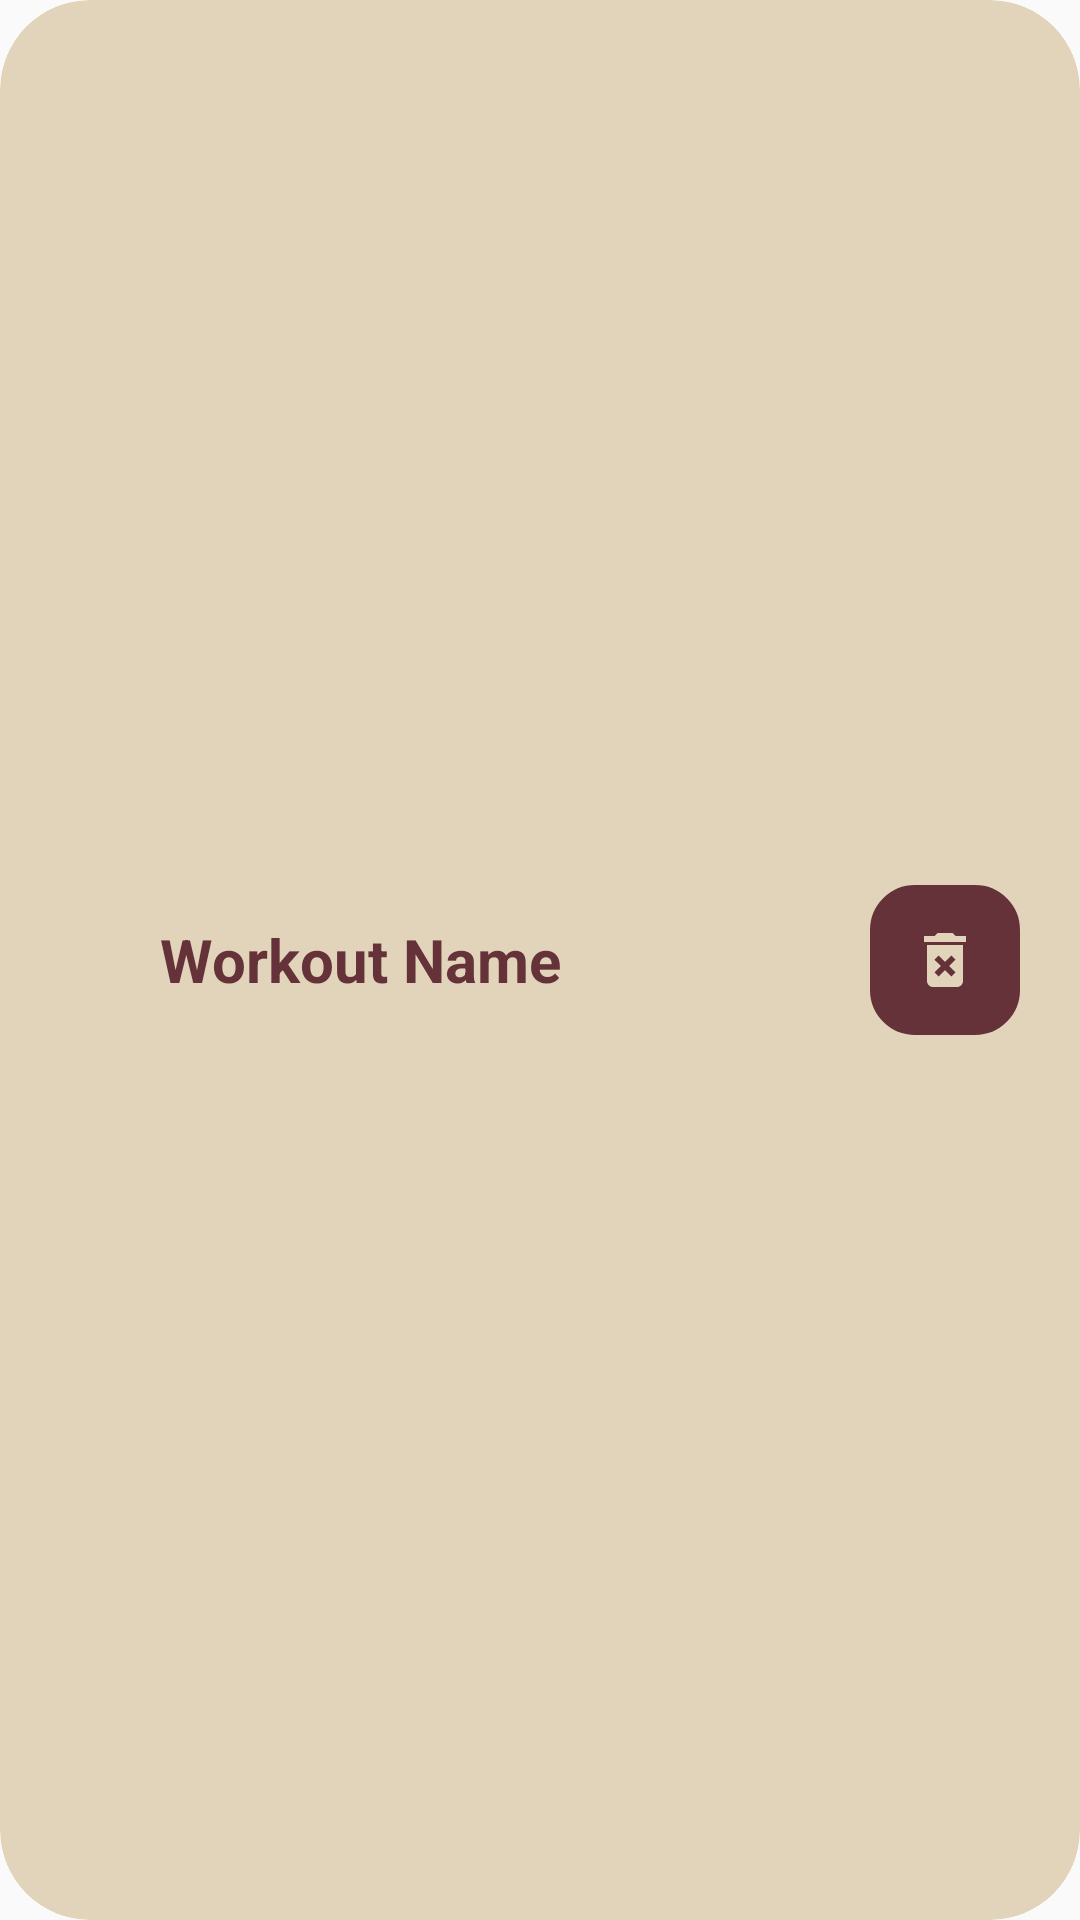

Icon click points for this 1080 × 1920 phone screenshot, format [x,y]:
delete: [945,960]
